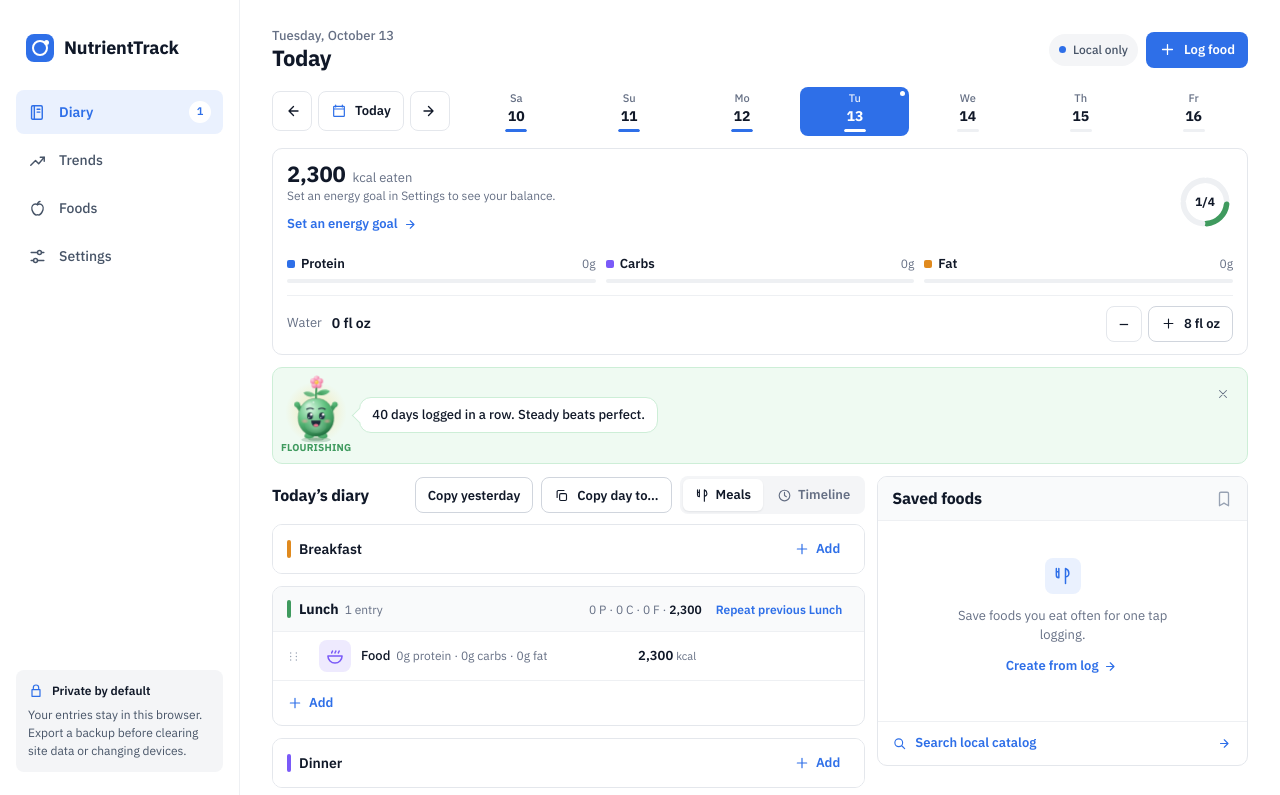
Trends: expenditure card › shows a kcal per day figure when the data supports one
Click the button "Trends".
click(120, 160)  # box [16,138,223,182]
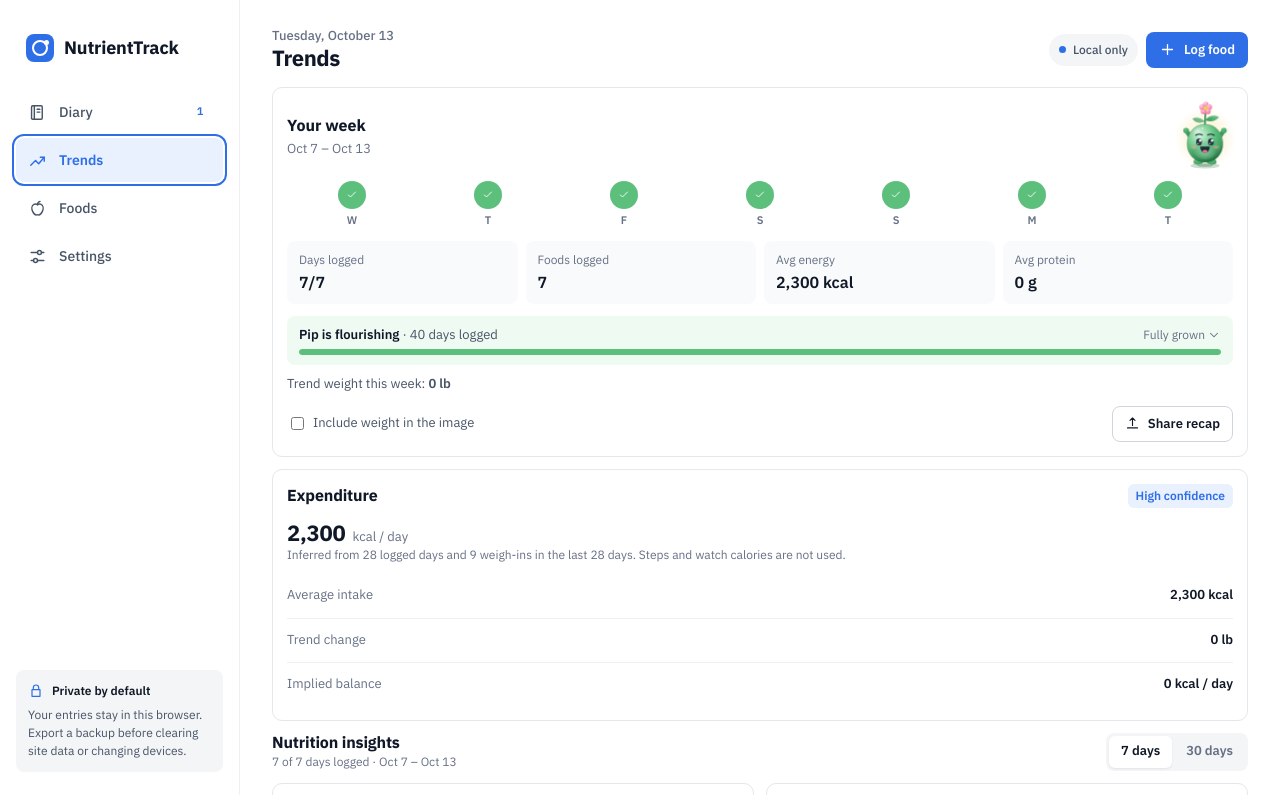
Expected: the text "2,300 kcal / day" is shown, [287,518,408,547]
Expected: the heading "Expenditure" is shown, [287,484,378,507]
Expected: the text "kcal / day" is shown, [352,528,408,545]
